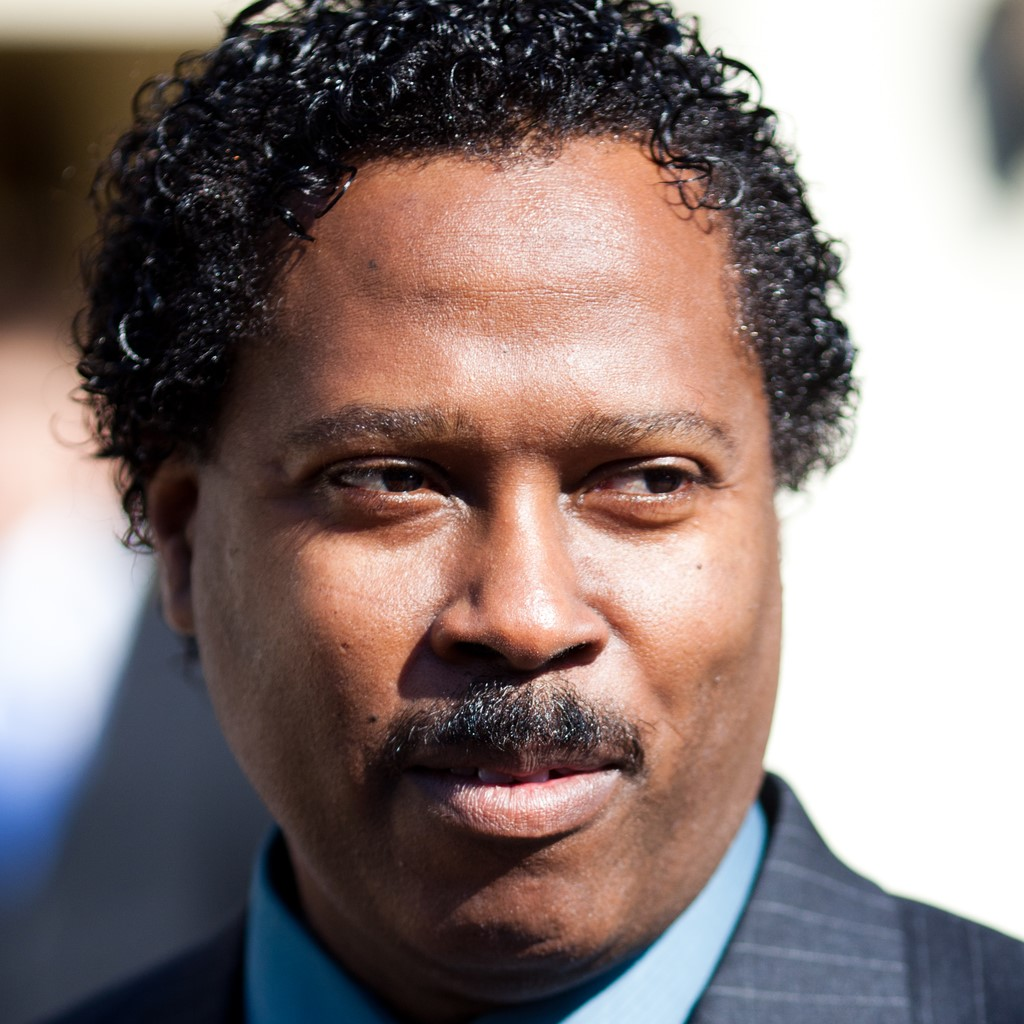sin_mascara: (193, 122, 803, 975)
